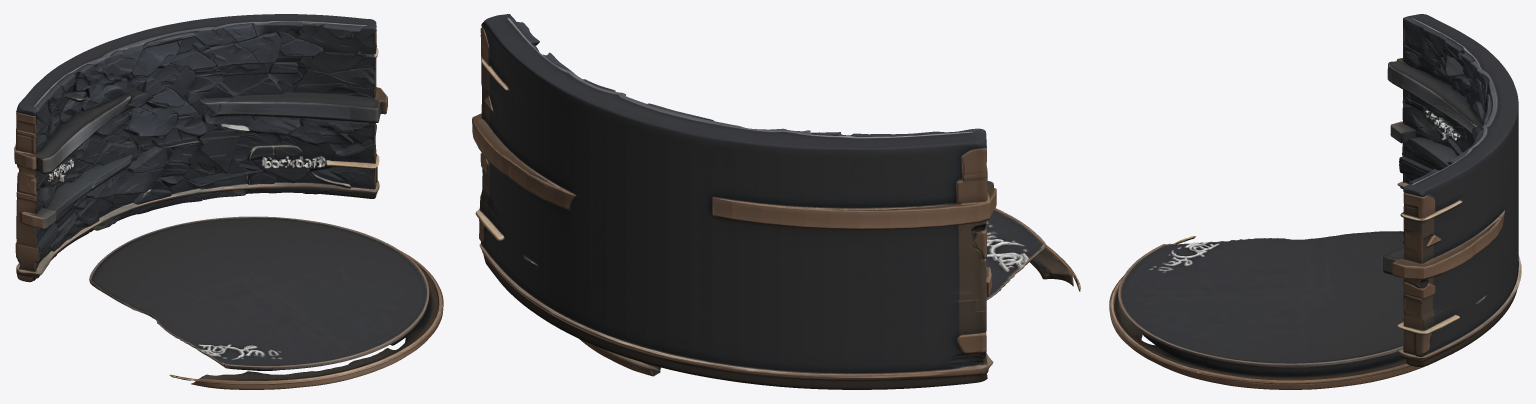
The model's file is stage-platform.11f2168b.glb.
3 renders of one model, left to right at view 1: azimuth 30°, elevation 25°; view 2: azimuth 150°, elevation 25°; view 3: azimuth 270°, elevation 25°, orthographic. The views are drawn at different scales.
Parts seen in each view (by area): view 1: tripo_node_90d30125-059d-4a70-9858-645341edaff4; view 2: tripo_node_90d30125-059d-4a70-9858-645341edaff4; view 3: tripo_node_90d30125-059d-4a70-9858-645341edaff4.
Part boxes in pixels (left/top/right/bottom): tripo_node_90d30125-059d-4a70-9858-645341edaff4: left=14, top=14, right=443, bottom=389; tripo_node_90d30125-059d-4a70-9858-645341edaff4: left=472, top=14, right=1080, bottom=389; tripo_node_90d30125-059d-4a70-9858-645341edaff4: left=1109, top=14, right=1521, bottom=389.
Bounding box in the file's own units: 0.9826 × 0.5249 × 0.93.
1 material, 1 textured.
